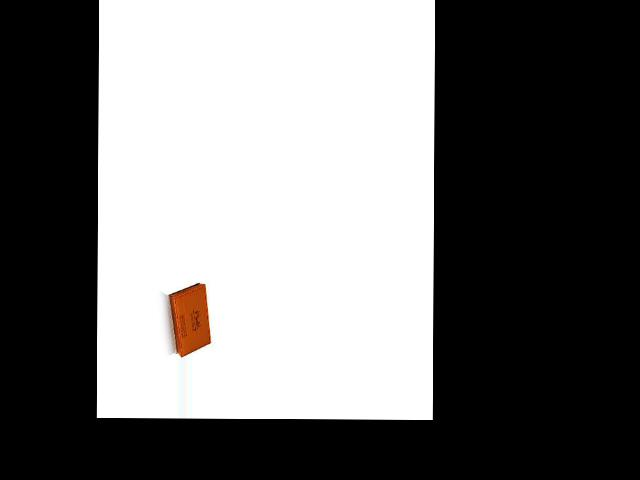chocolate: (162, 281, 213, 356)
